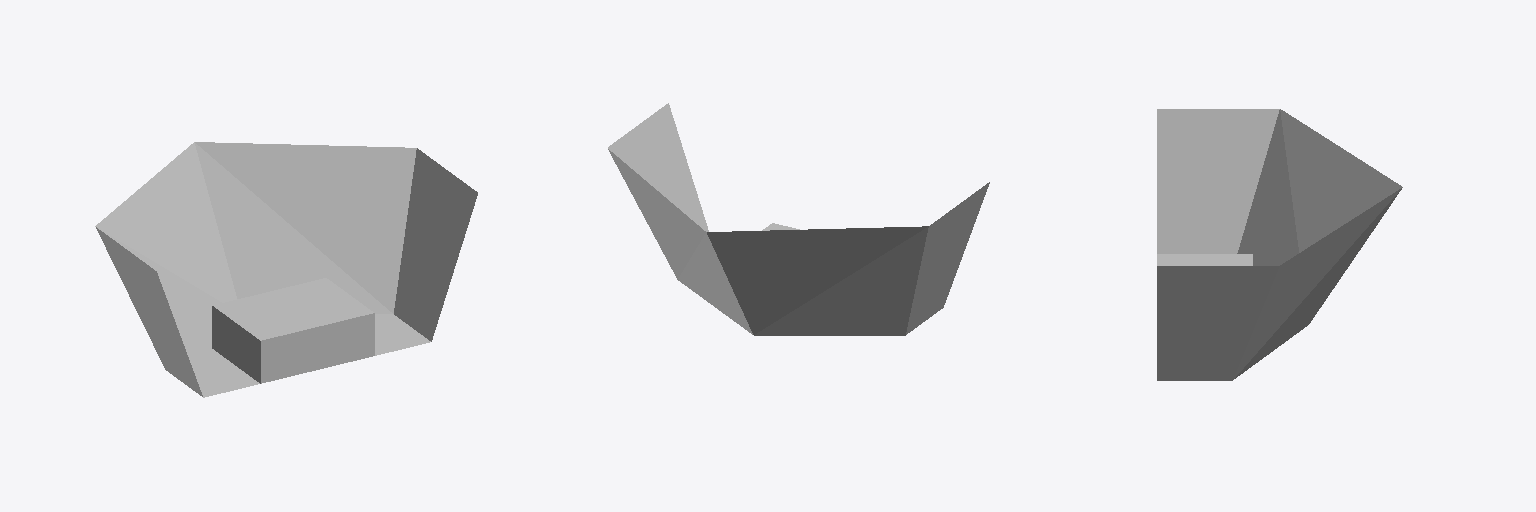
Rendered from lampWall.obj.
3 renders of one model, left to right at view 1: azimuth 30°, elevation 25°; view 2: azimuth 150°, elevation 25°; view 3: azimuth 270°, elevation 25°, orthographic.
Visible parts, largest first — view 1: lampWall; view 2: lampWall; view 3: lampWall.
Part boxes in pixels (x1,y1,x2,y2): lampWall: (95,142,477,397); lampWall: (608,103,989,335); lampWall: (1157,109,1402,380).
Bounding box in the file's own units: 0.2266 × 0.0928 × 0.1503.